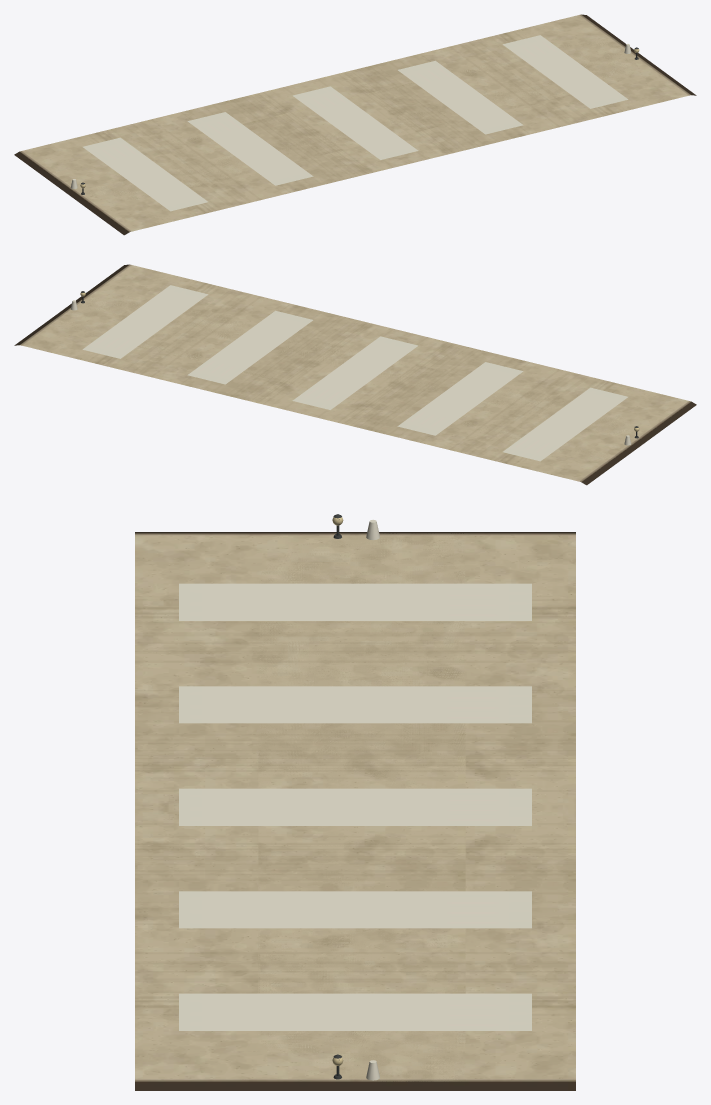
File: piste.glb
3 renders of one model, top to bottom at view 1: azimuth 30°, elevation 25°; view 2: azimuth 150°, elevation 25°; view 3: azimuth 270°, elevation 25°, orthographic. The views are drawn at different scales.
Visible parts, largest first — view 1: piste_troncon, piste_seuil, piste_bout; view 2: piste_troncon, piste_seuil, piste_bout; view 3: piste_troncon, piste_seuil, piste_bout.
Part boxes in pixels (x1,y1,x2,y2): piste_troncon: [14, 14, 696, 235]; piste_seuil: [83, 35, 628, 211]; piste_bout: [43, 35, 637, 200]; piste_troncon: [14, 264, 696, 485]; piste_seuil: [82, 285, 627, 461]; piste_bout: [44, 296, 636, 464]; piste_troncon: [135, 532, 575, 1090]; piste_seuil: [179, 583, 531, 1030]; piste_bout: [258, 532, 465, 1090].
Size of the model in its own units: 30 by 0.68 by 10.
4 materials, 4 textured.
